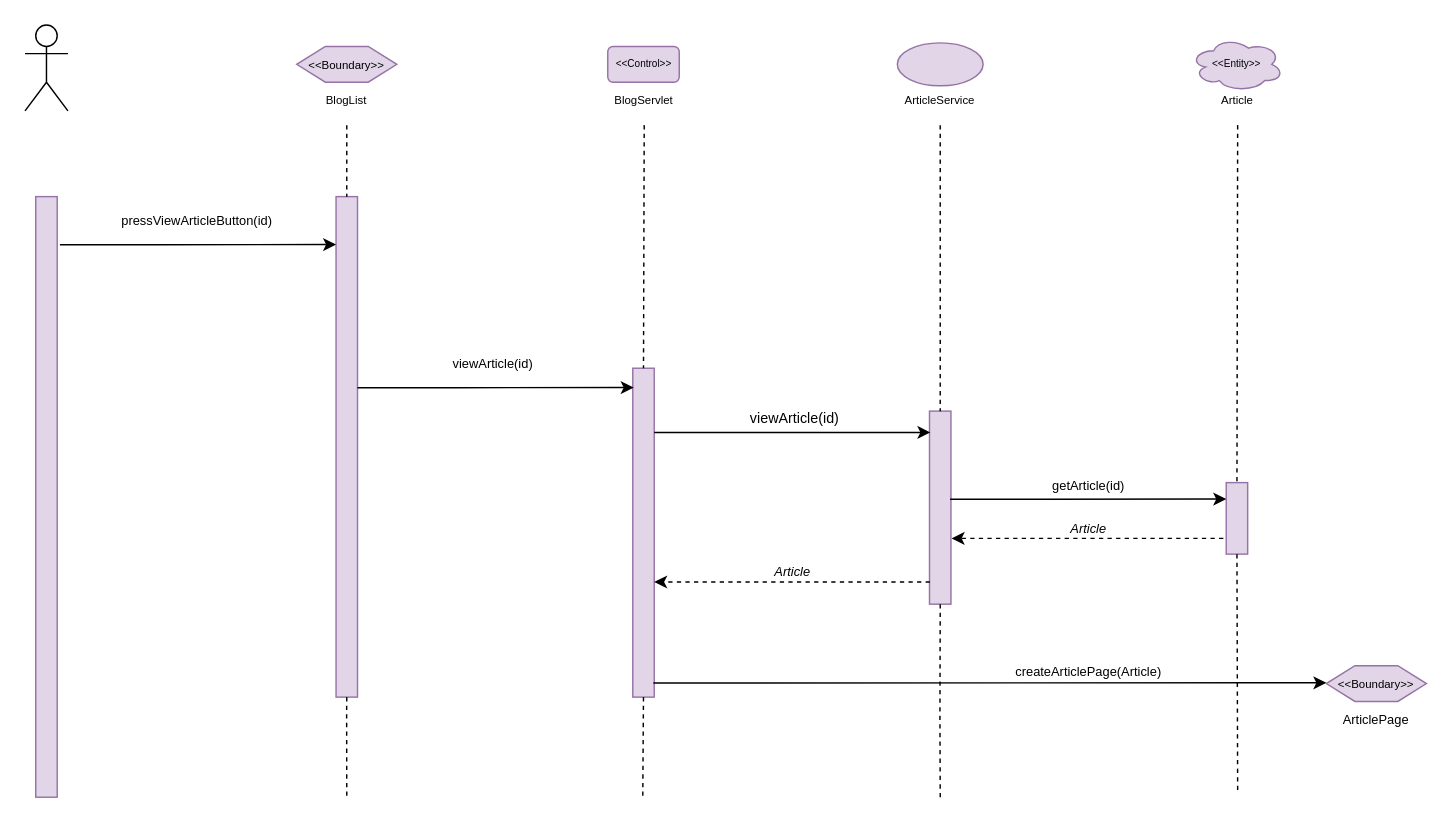
Image size: 1451x824. Some labels were removed from this diagram. Here are the shapes that lost their labels. From the top down, the centre of each, then its label:
(46,67): Dario
(939,63): <<Model>>
